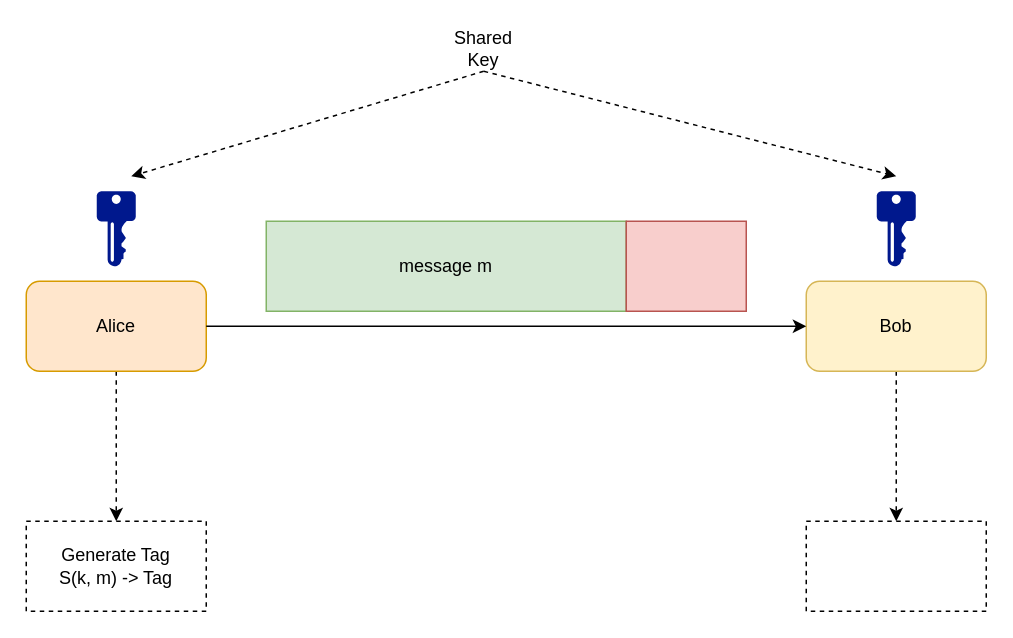
Image size: 1013x638. Some labels were removed from this diagram. Each missing label, with the centre of its shape:
tag: the point at 685,265
Verify Tag V(k, m, Tag) = yes/no: the point at 895,565
